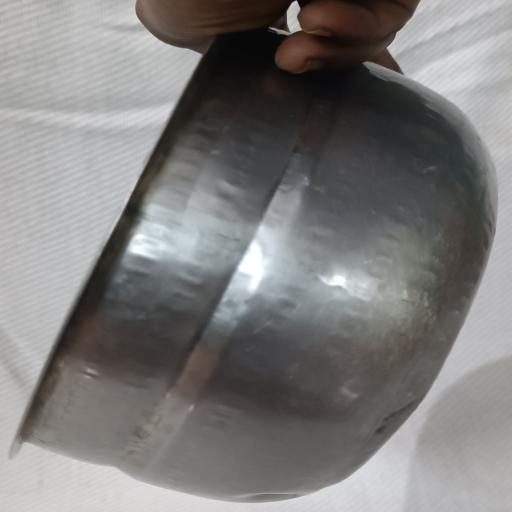vessel: (16, 30, 496, 501)
